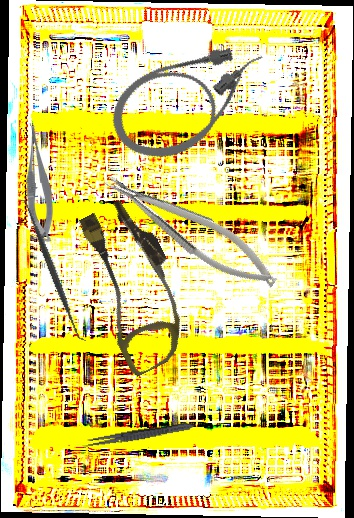Cannula: (59, 192, 209, 379), (98, 28, 285, 174)
Dressing Forceps: (81, 419, 196, 451)
Micro Scissor: (24, 122, 55, 244)
Needle Holder: (97, 156, 286, 303)
Spatula Surgical: (17, 195, 89, 346)
